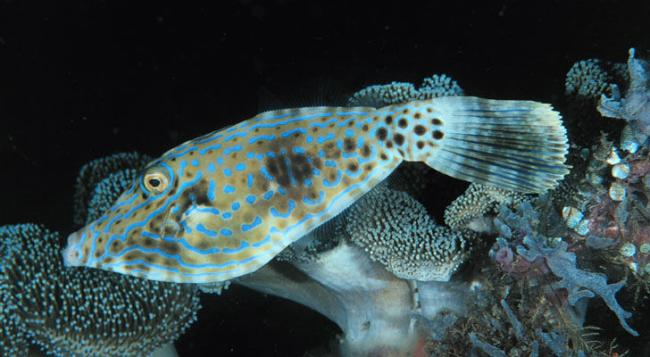fish: (60, 94, 568, 285)
